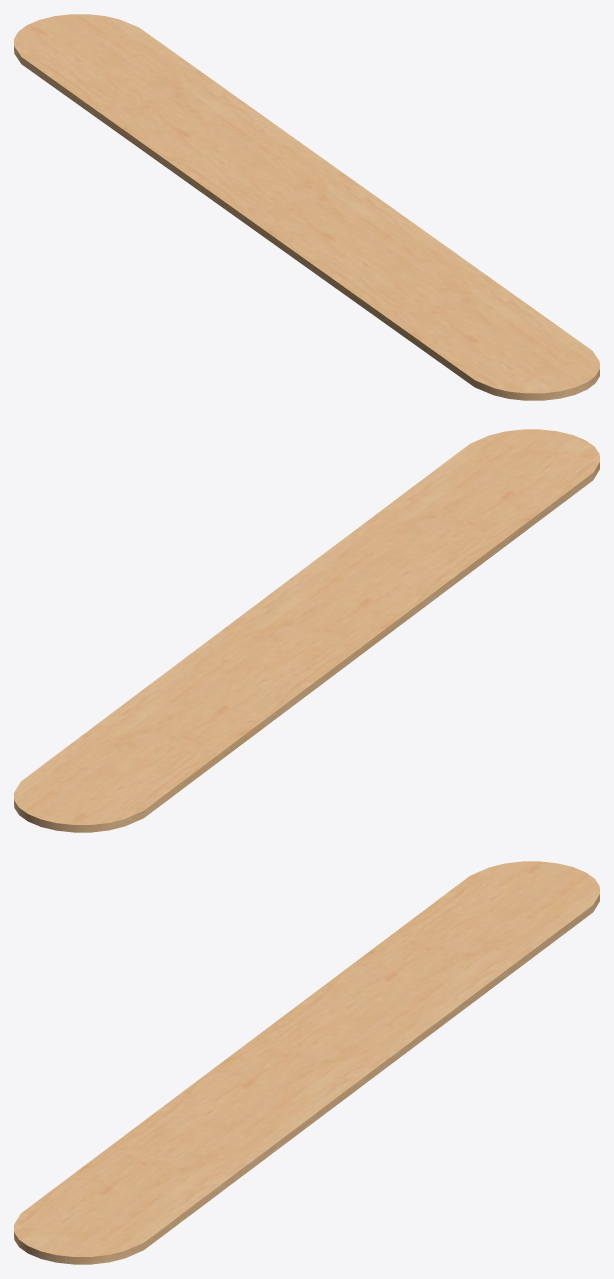
The model's file is Caydeluoi.fbx.
3 renders of one model, top to bottom at view 1: azimuth 30°, elevation 25°; view 2: azimuth 150°, elevation 25°; view 3: azimuth 330°, elevation 25°, orthographic. The views are drawn at different scales.
Parts seen in each view (by area): view 1: Caydeluoi; view 2: Caydeluoi; view 3: Caydeluoi.
Boxes of the visible parts, x1,y1,x2,y2 form: Caydeluoi: (14,14,599,400); Caydeluoi: (14,429,599,832); Caydeluoi: (14,861,599,1264).
Bounding box in the file's own units: 1.5 × 0.0826 × 10.45.
Materials: 1 (1 with a texture image).
